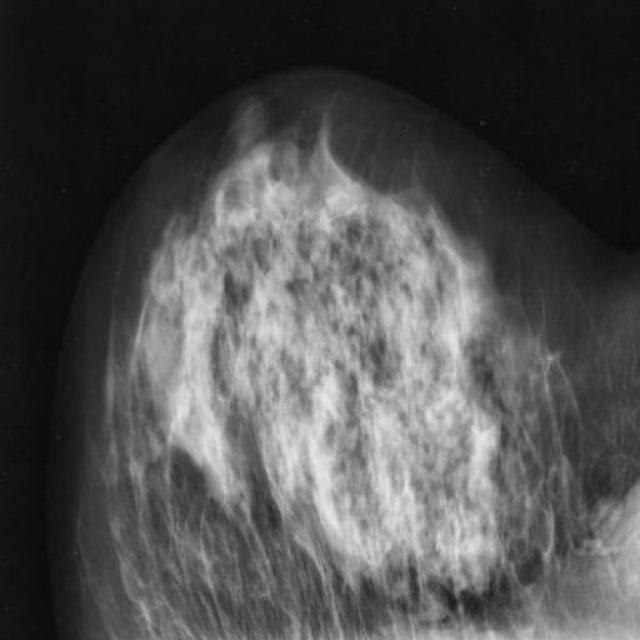cancer: (283, 305, 333, 386)
